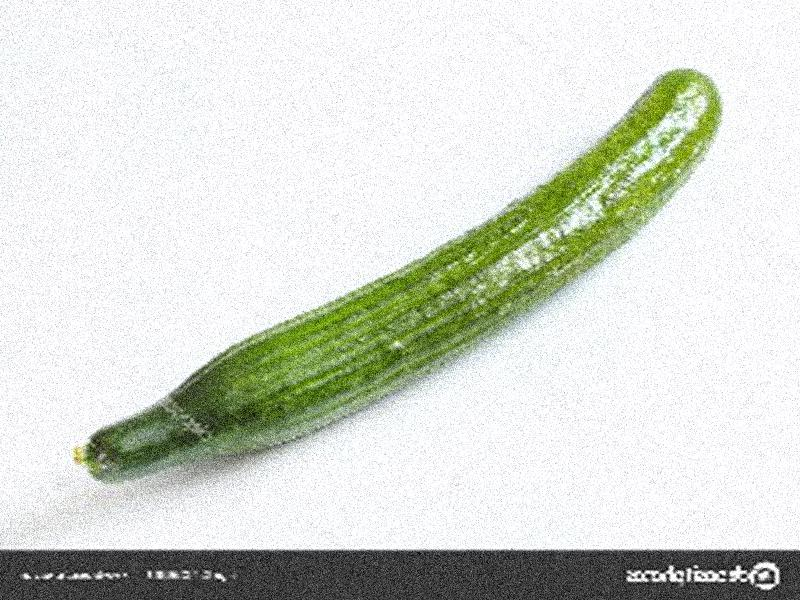Cucumber: (73, 69, 718, 478)
